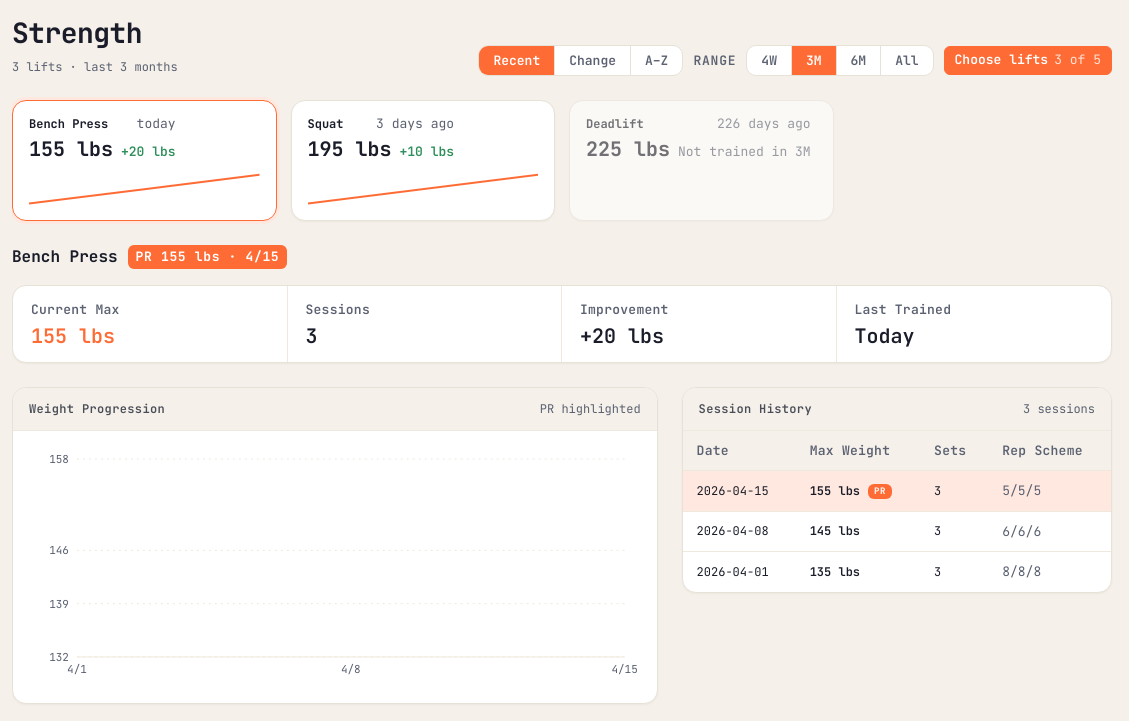
Test: Strength page — detail for the selected lift › shows a no-sessions message for a lift not trained in the range
Expected: the element with test id "lift-grid" is shown, [12,100,834,221]
Click the button "Deadlift": (701, 160) [569,100,834,221]
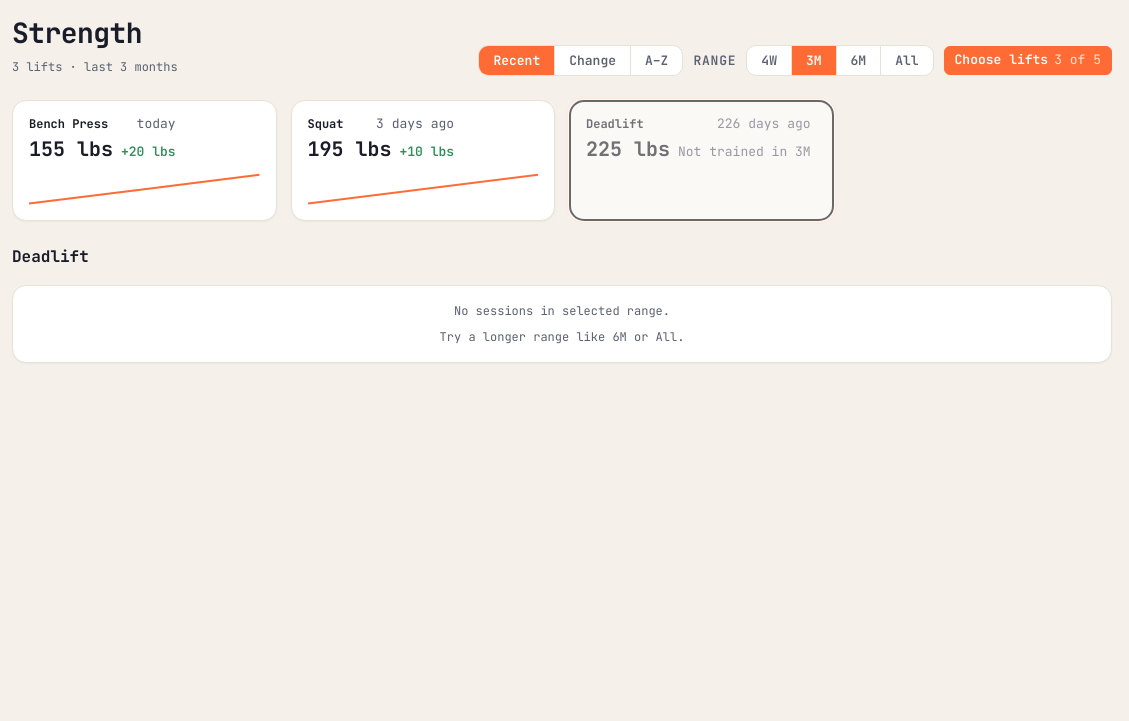
Result: the text "No sessions in selected range." is shown at [454,303,670,319]
